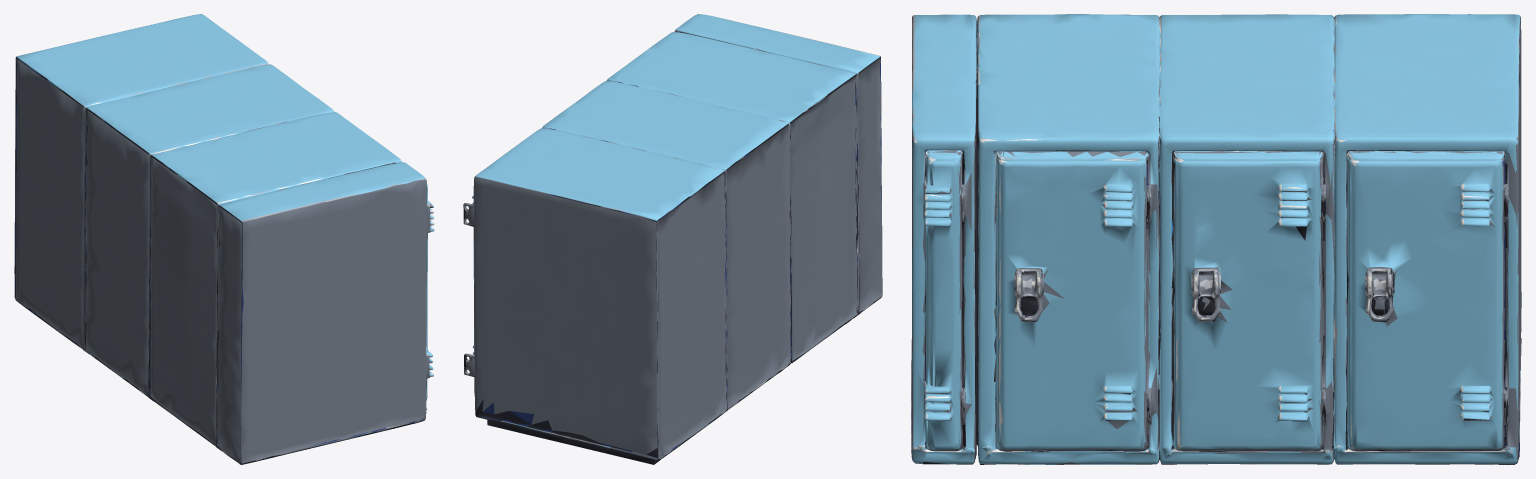
File: SM_lockers_teal.glb
3 views of the same model, side by side, from view 1: azimuth 30°, elevation 25°; view 2: azimuth 150°, elevation 25°; view 3: azimuth 270°, elevation 25° (orthographic). The views are drawn at different scales.
Parts seen in each view (by area): view 1: SM_lockers_teal; view 2: SM_lockers_teal; view 3: SM_lockers_teal.
Part boxes in pixels (bbox=[...]): SM_lockers_teal: bbox=[14, 14, 434, 464]; SM_lockers_teal: bbox=[463, 14, 882, 464]; SM_lockers_teal: bbox=[911, 14, 1521, 464].
Bounding box in the file's own units: 1.61 × 1.8 × 2.94.
1 material, 1 textured.
